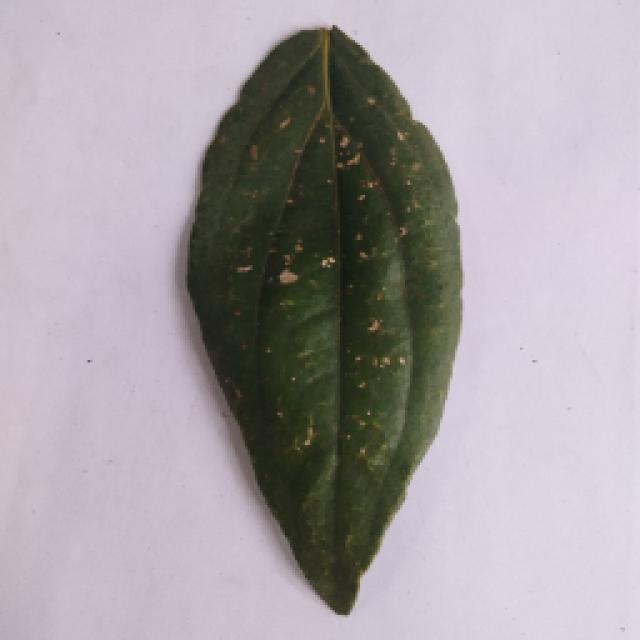pollu-disease: (155, 25, 483, 610)
